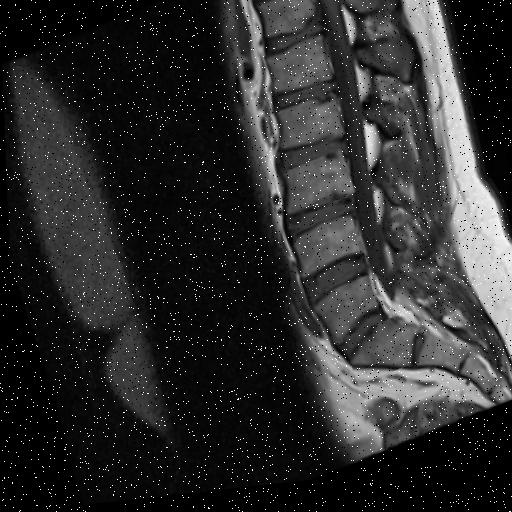L1: (266, 42, 331, 100)
L2: (276, 106, 344, 158)
L3: (283, 160, 353, 222)
L4: (291, 223, 361, 285)
L5: (311, 283, 375, 352)
S1: (347, 327, 417, 376)
